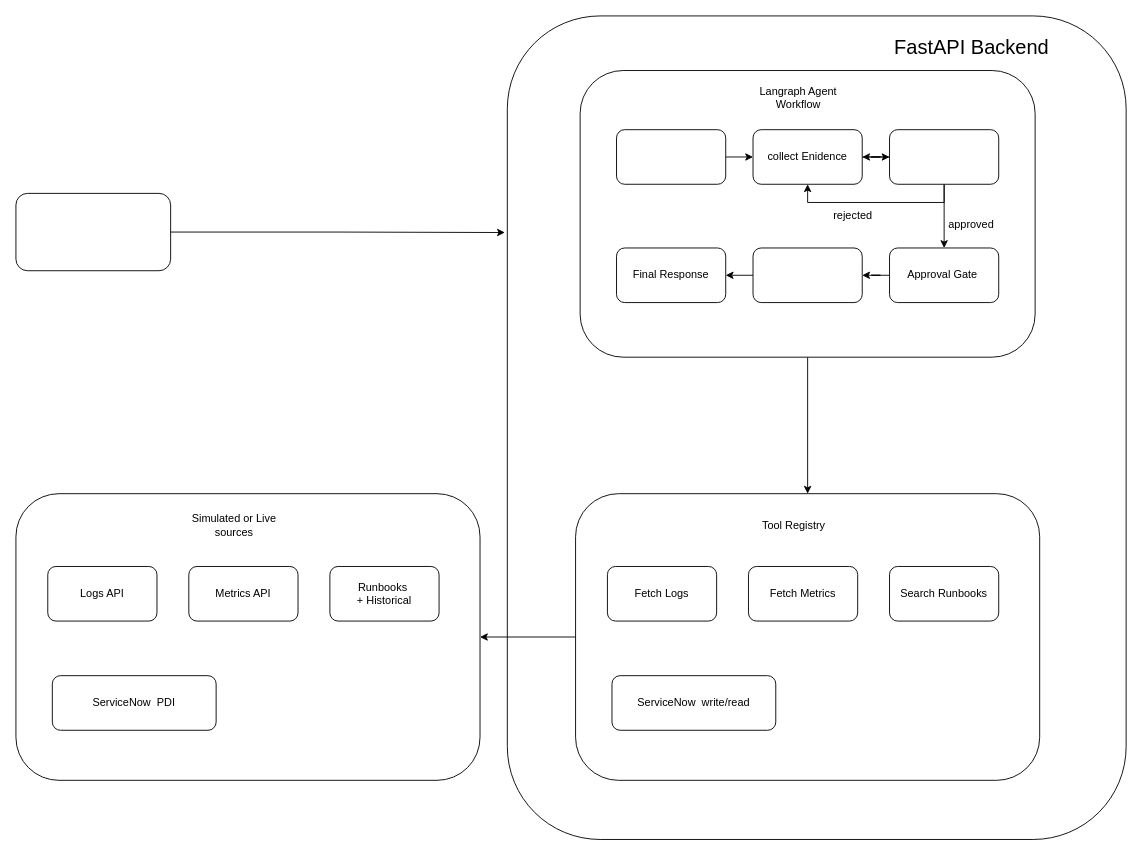
Some shapes in this 1142 by 855 pixel diagram are drawn without their labels. Here are the shapes that lost their labels. From the top down, the box of each, then its label:
(616, 129, 726, 184): Classify + Plan
(889, 129, 999, 184): Diagnose + remediation
(15, 192, 171, 271): UI
(752, 247, 862, 303): ServiceNow write
